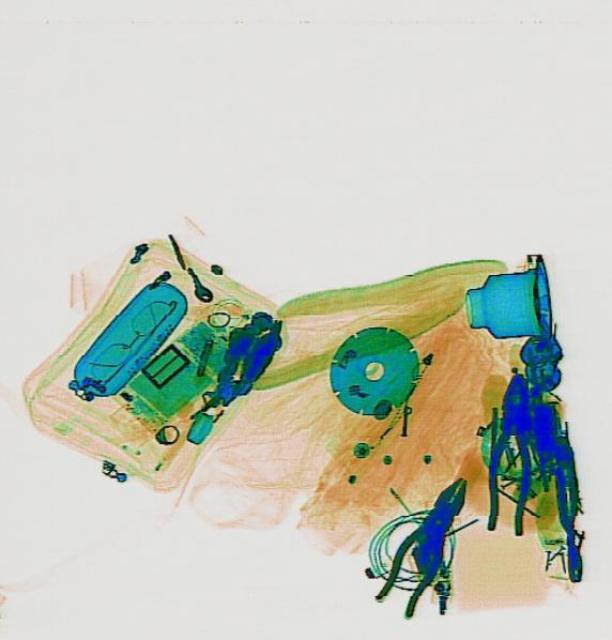Pliers: (367, 467, 478, 619), (477, 372, 537, 534), (548, 452, 584, 580)
